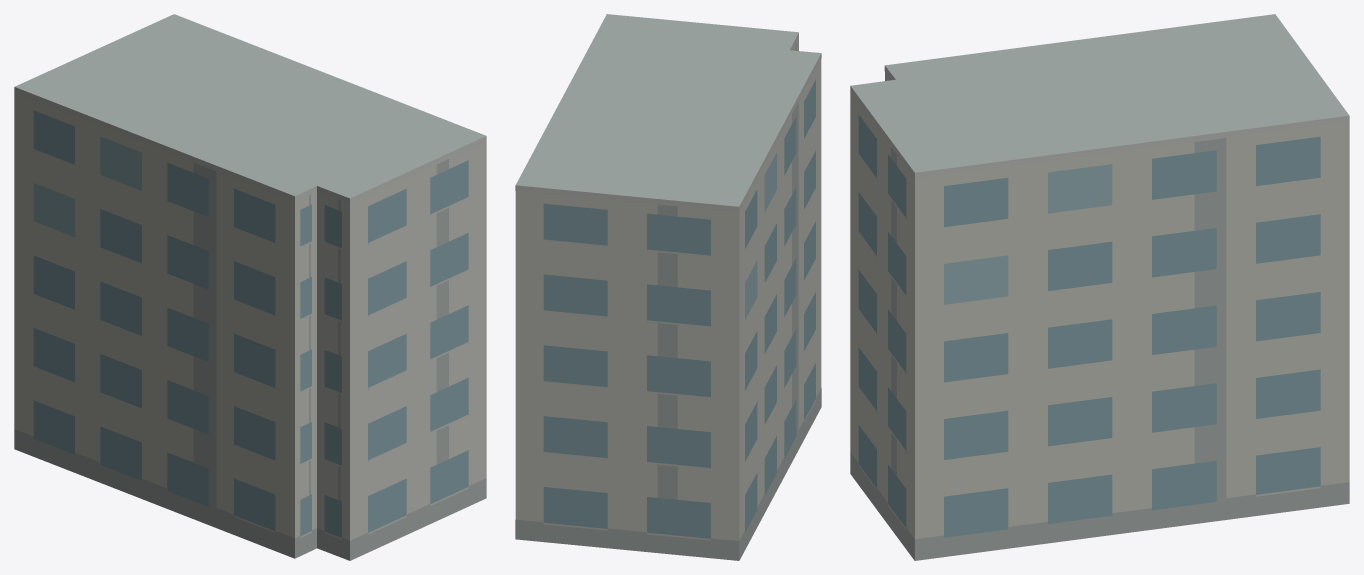
File: survey-upis-32569926.glb
3 views of the same model, side by side, from view 1: azimuth 30°, elevation 25°; view 2: azimuth 150°, elevation 25°; view 3: azimuth 270°, elevation 25° (orthographic). The views are drawn at different scales.
Parts seen in each view (by area): view 1: survey-upis-32569926.tmp; view 2: survey-upis-32569926.tmp; view 3: survey-upis-32569926.tmp.
Boxes of the visible parts, x1,y1,x2,y2 form: survey-upis-32569926.tmp: (14,14,486,560); survey-upis-32569926.tmp: (515,14,821,560); survey-upis-32569926.tmp: (850,14,1349,560).
Bounding box in the file's own units: 13.57 × 15.45 × 18.02.
